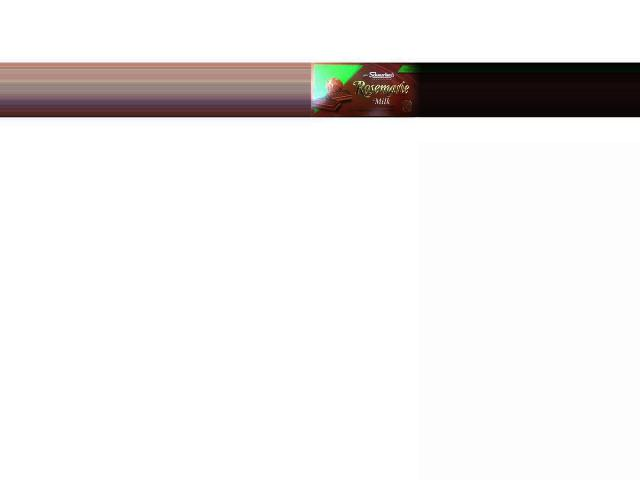chocolate: (312, 64, 422, 116)
